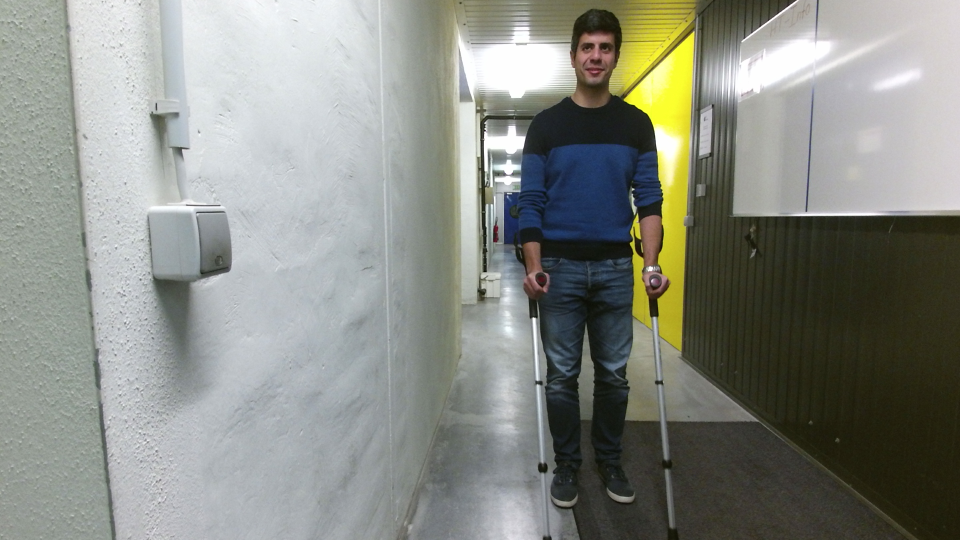crutches: (497, 6, 696, 540)
